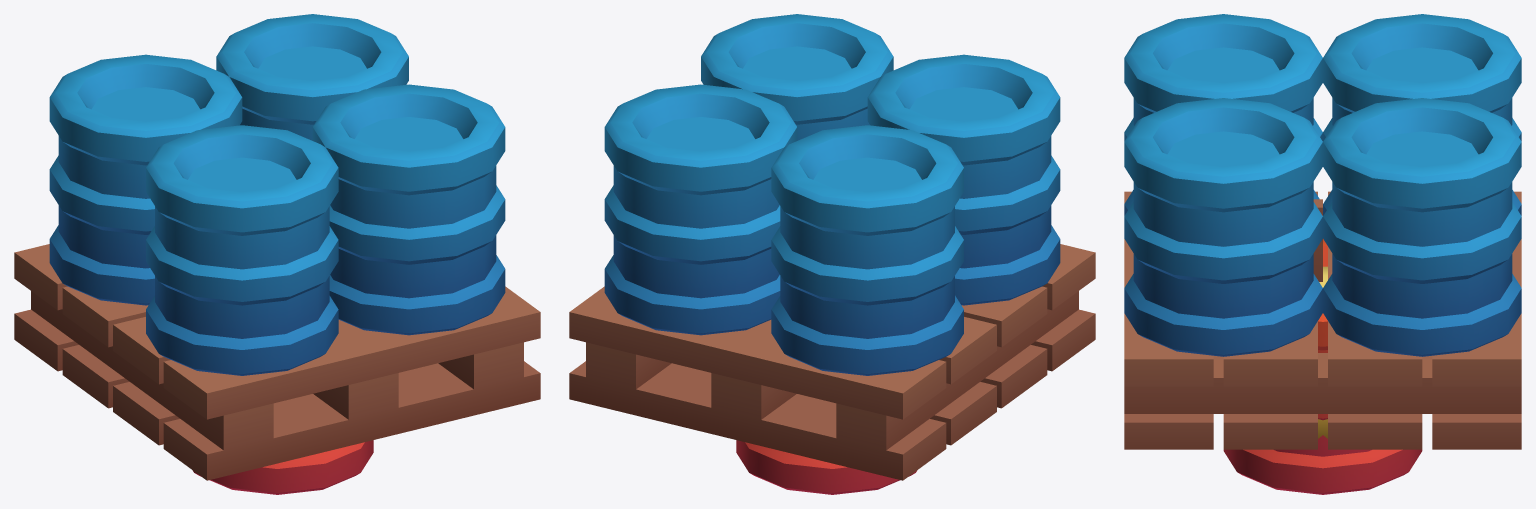
The model's file is proto.glb.
The picture shows the model from 3 angles, left to right: view 1: azimuth 30°, elevation 25°; view 2: azimuth 150°, elevation 25°; view 3: azimuth 270°, elevation 25°; orthographic projection. The views are drawn at different scales.
Visible parts, largest first — view 1: Pallet_Small_Decorated_A, Barrel_A; view 2: Pallet_Small_Decorated_A, Barrel_A; view 3: Pallet_Small_Decorated_A, Barrel_A, target_small.
Boxes of the visible parts, x1,y1,x2,y2 form: Pallet_Small_Decorated_A: (14,14,540,480); Barrel_A: (192,440,373,494); Pallet_Small_Decorated_A: (569,14,1095,480); Barrel_A: (736,440,917,494); Pallet_Small_Decorated_A: (1124,14,1521,449); Barrel_A: (1223,239,1422,494); target_small: (1313,199,1322,281).
Bounding box in the file's own units: 2 × 2 × 2.
Materials: 1 (1 with a texture image).
